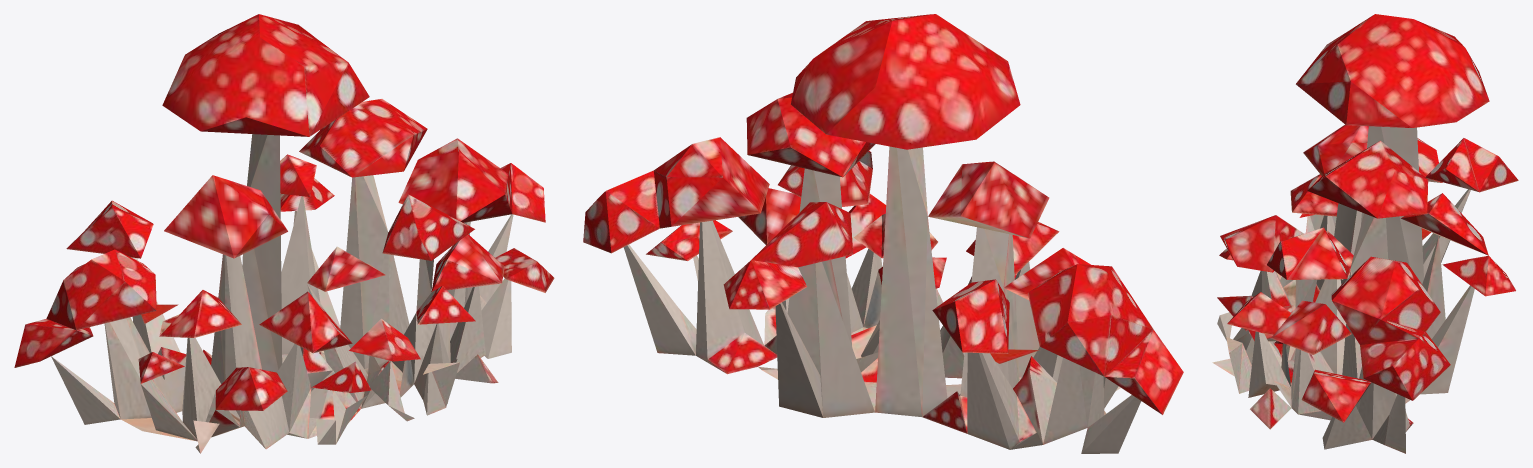
File: mushrooms.glb
3 renders of one model, left to right at view 1: azimuth 30°, elevation 25°; view 2: azimuth 150°, elevation 25°; view 3: azimuth 270°, elevation 25°, orthographic. The views are drawn at different scales.
Size of the model in its own units: 1.88 by 1.22 by 1.01.
Materials: 1 (1 with a texture image).
